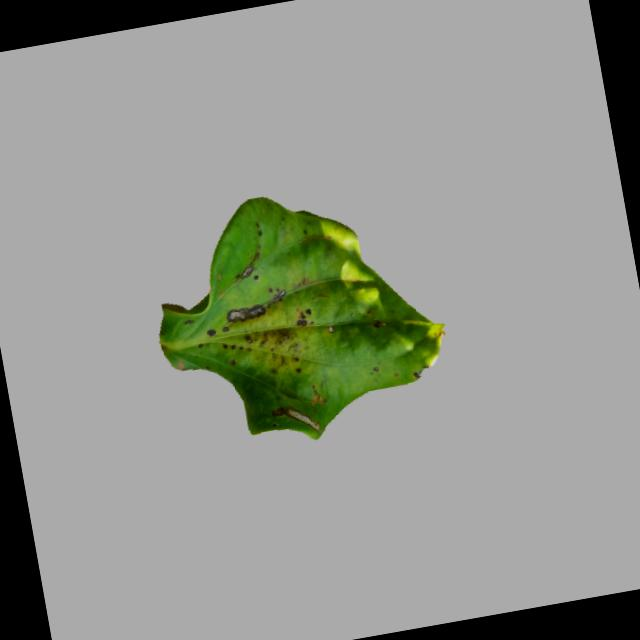yellow-mottle-virus: (127, 170, 458, 468)
